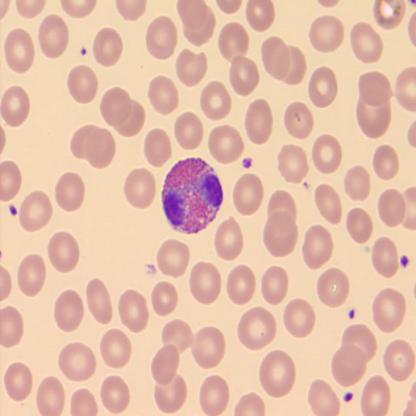Eosinophil: (161, 158, 226, 236)
